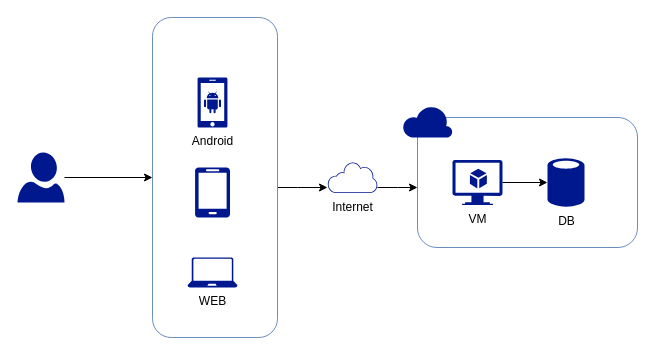
This 655x355 diagram has some shape labels left out. Each missing label, with the box of its shape:
Cloud: (402, 105, 452, 137)
IOS: (194, 167, 230, 217)
